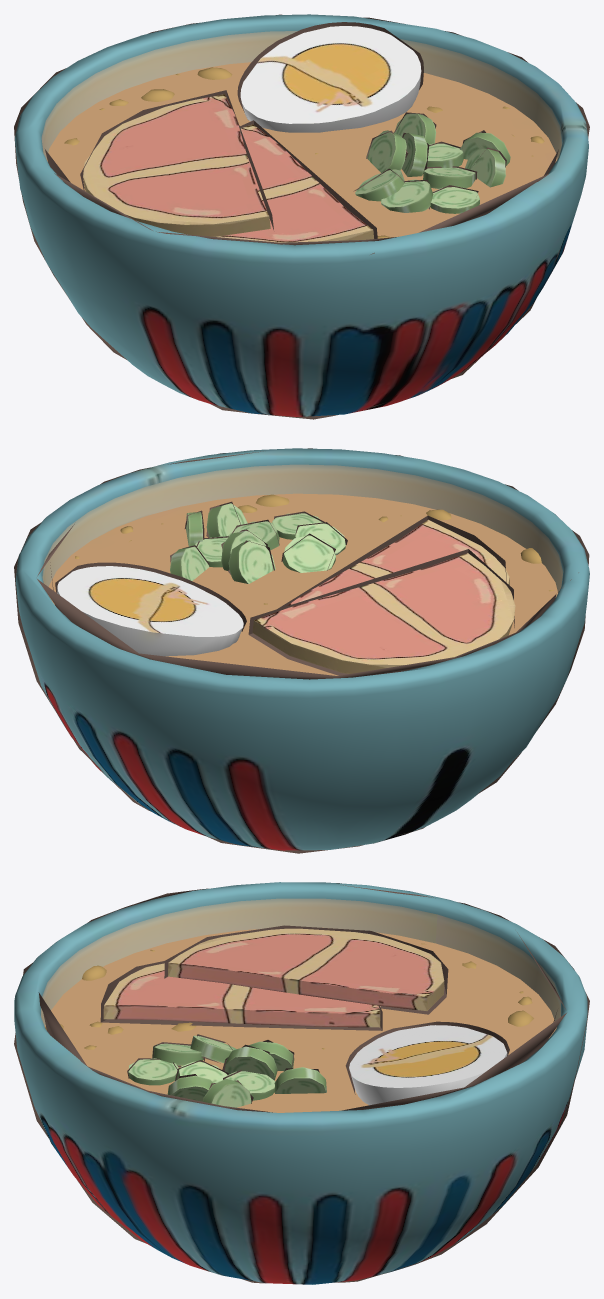
File: ramen.glb
3 renders of one model, top to bottom at view 1: azimuth 30°, elevation 25°; view 2: azimuth 150°, elevation 25°; view 3: azimuth 270°, elevation 25°, orthographic.
Parts seen in each view (by area): view 1: polySurface2, polySurface1; view 2: polySurface2, polySurface1; view 3: polySurface2, polySurface1.
Boxes of the visible parts, x1,y1,x2,y2 form: polySurface2: (15, 14, 588, 416); polySurface1: (14, 14, 589, 419); polySurface2: (15, 448, 589, 850); polySurface1: (14, 448, 589, 853); polySurface2: (14, 882, 587, 1284); polySurface1: (14, 883, 589, 1283).
Size of the model in its own units: 220 by 99.98 by 221.
Materials: 2 (1 with a texture image).
